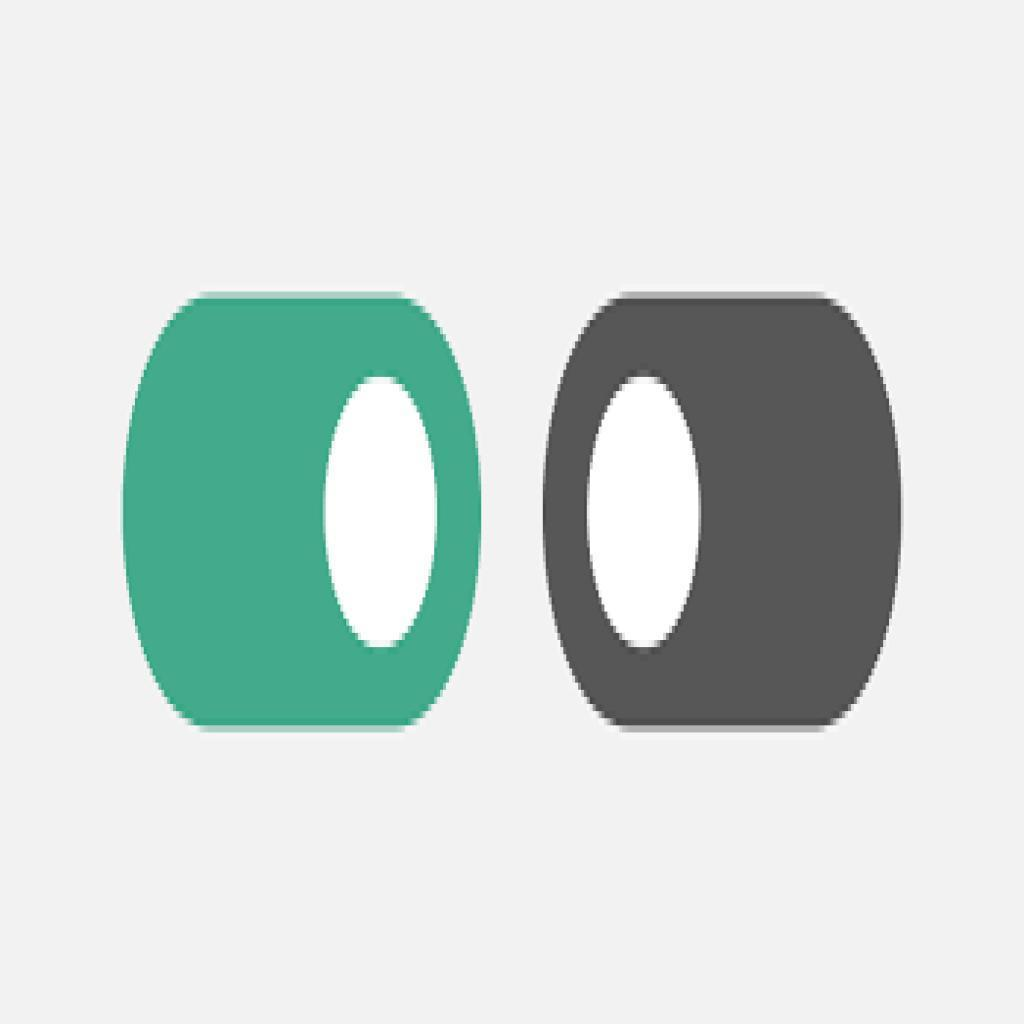switch: (114, 281, 489, 743), (545, 281, 910, 736)
